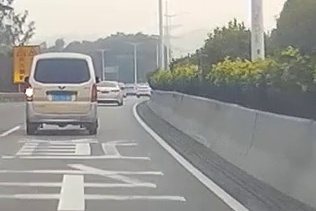L_light: (25, 83, 33, 101)
R_light: (90, 83, 97, 102)
T_light: (58, 56, 67, 59)
day-left: (25, 52, 97, 135)
